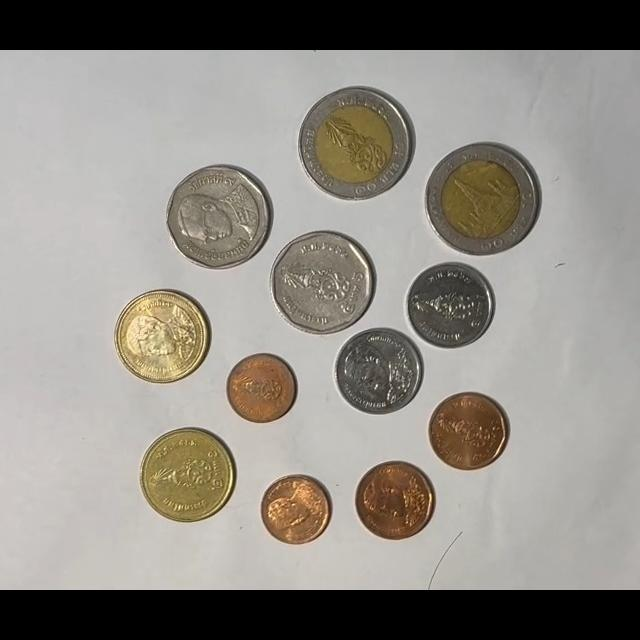1-baht: (405, 262, 494, 350), (334, 328, 422, 415)
10-baht: (298, 86, 415, 202), (425, 142, 540, 256)
2-baht: (139, 428, 236, 523), (115, 290, 208, 385)
25-satang: (260, 474, 331, 546), (226, 353, 296, 423)
5-baht: (166, 165, 272, 270), (270, 230, 375, 336)
50-satang: (355, 461, 435, 541), (428, 392, 508, 471)
